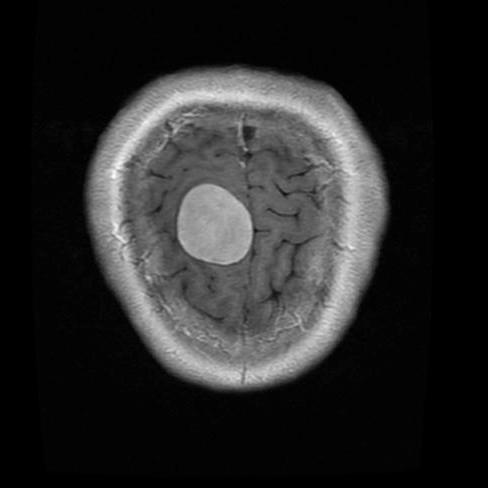Tumour-Meningioma: (149, 178, 273, 273)
